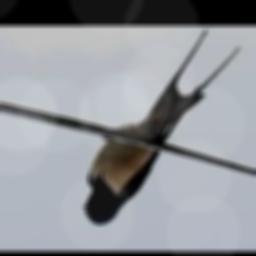Swallow: (83, 31, 240, 225)
